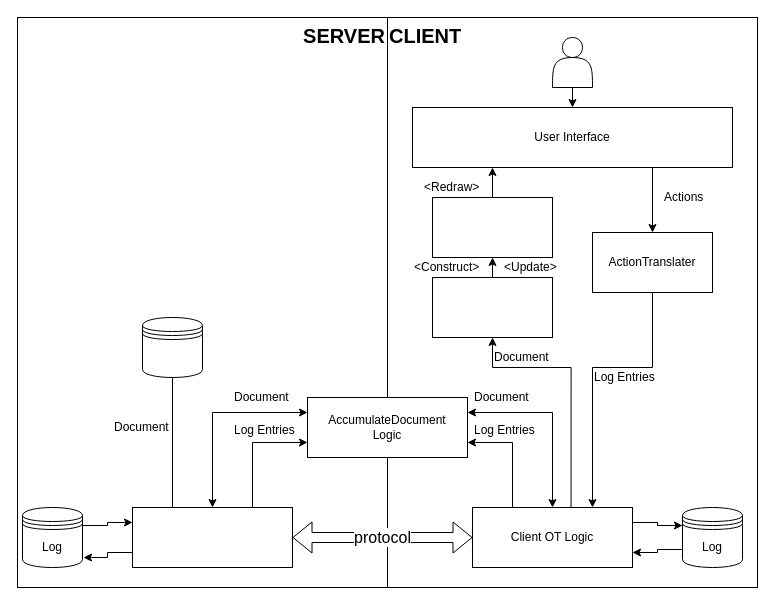
Some shapes in this 775 by 605 pixel diagram are drawn without their labels. Here are the shapes that lost their labels. From the top down, the centre of each, then its label:
the point at 492,227: Front-End State
the point at 492,307: State Factory
the point at 172,347: Document Storage
the point at 212,537: Server OT Logic
